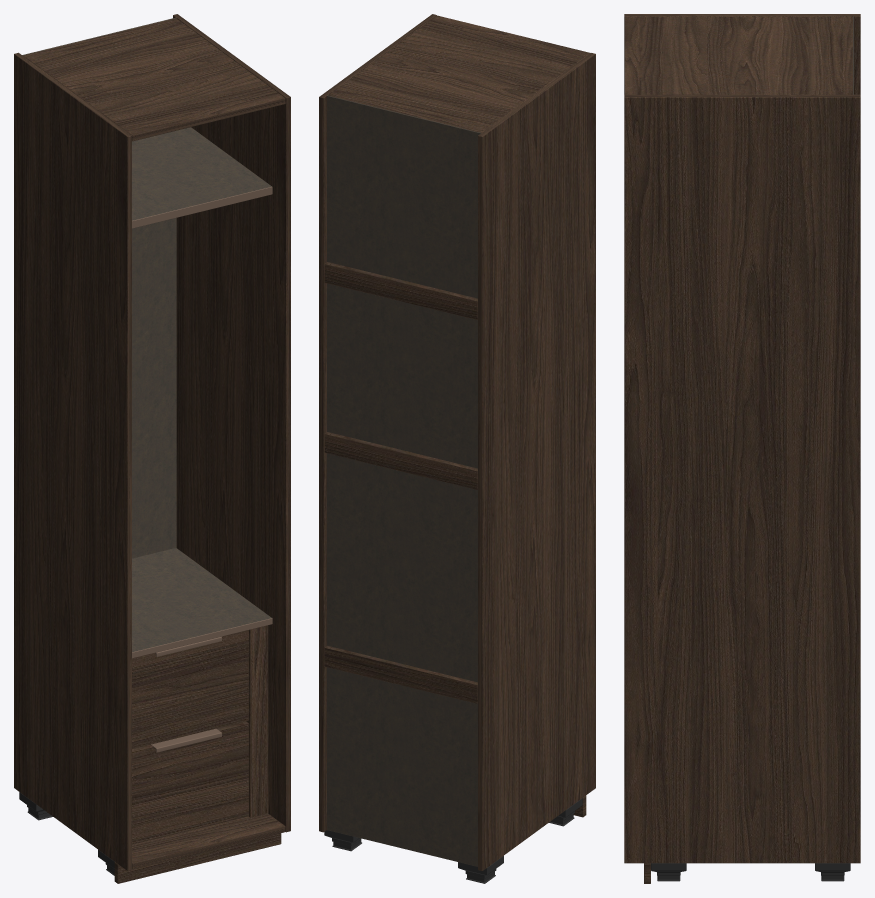
3 renders of one model, left to right at view 1: azimuth 30°, elevation 25°; view 2: azimuth 150°, elevation 25°; view 3: azimuth 270°, elevation 25°, orthographic. The views are drawn at different scales.
Visible parts, largest first — view 1: HK1001025, BONG_01; view 2: HK1001025; view 3: HK1001025.
Part boxes in pixels (x1=…): HK1001025: x1=14, y1=14, x2=290, y2=883; BONG_01: x1=151, y1=636, x2=221, y2=752; HK1001025: x1=319, y1=14, x2=595, y2=883; HK1001025: x1=624, y1=14, x2=860, y2=883.
Size of the model in its own units: 0.5 by 2.2 by 0.6.
6 materials, 5 textured.
